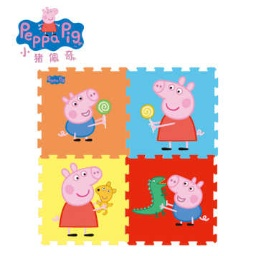Peppa: (150, 77, 199, 151), (55, 163, 102, 237)
